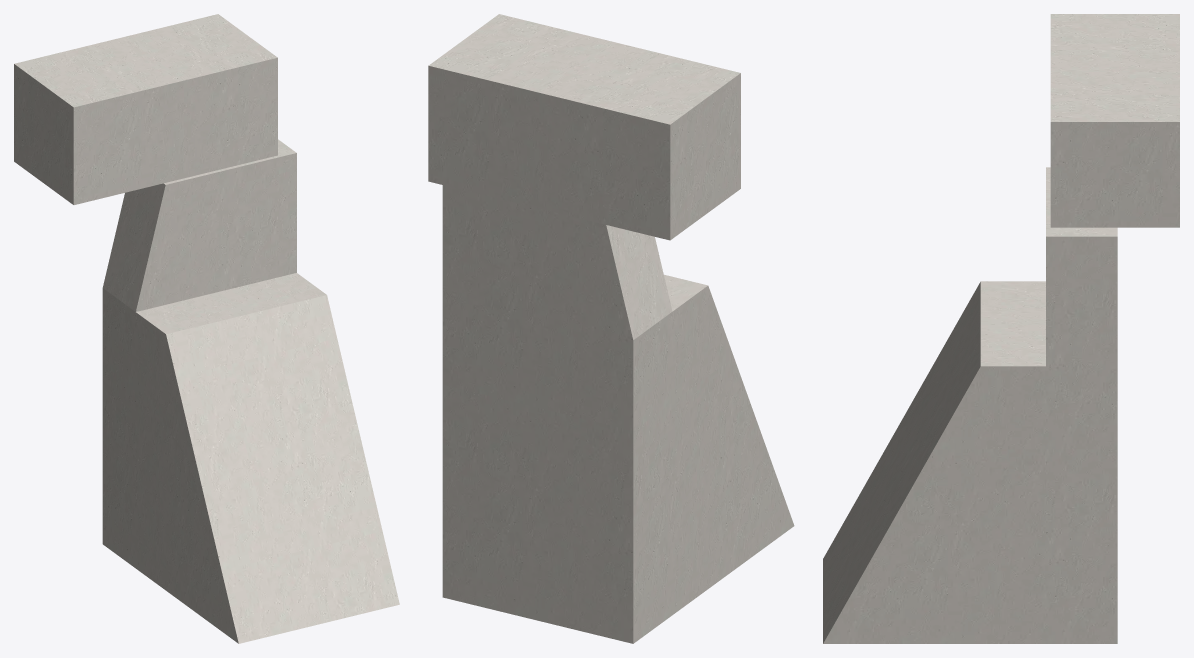
File: vez_bila.glb
3 views of the same model, side by side, from view 1: azimuth 30°, elevation 25°; view 2: azimuth 150°, elevation 25°; view 3: azimuth 270°, elevation 25° (orthographic). The views are drawn at different scales.
Visible parts, largest first — view 1: vez_bila; view 2: vez_bila; view 3: vez_bila.
Part boxes in pixels (<box>): vez_bila: <box>14,14,399,643</box>; vez_bila: <box>428,14,794,643</box>; vez_bila: <box>823,14,1179,643</box>.
Bounding box in the file's own units: 0.0412 × 0.0844 × 0.0532.
1 material, 1 textured.
